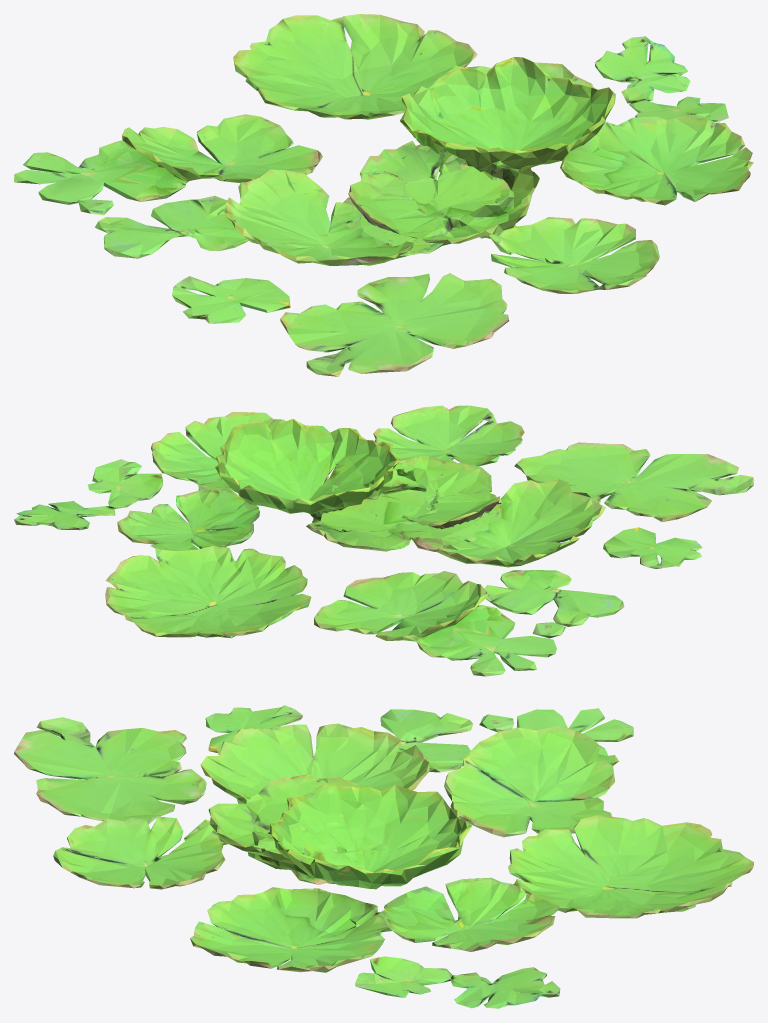
The model's file is Lily_New.glb.
3 renders of one model, top to bottom at view 1: azimuth 30°, elevation 25°; view 2: azimuth 150°, elevation 25°; view 3: azimuth 270°, elevation 25°, orthographic. The views are drawn at different scales.
Parts seen in each view (by area): view 1: temp; view 2: temp; view 3: temp.
Boxes of the visible parts, x1=… form: temp: x1=14, y1=14, x2=753, y2=376; temp: x1=14, y1=405, x2=753, y2=676; temp: x1=14, y1=705, x2=753, y2=1008.
Bounding box in the file's own units: 1.09 × 0.1381 × 1.14.
Materials: 1 (1 with a texture image).
